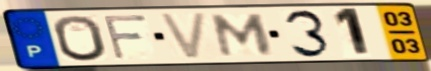1: (332, 6, 375, 59)
3: (279, 8, 331, 60)
F: (100, 13, 151, 62)
M: (210, 13, 276, 58)
O: (50, 14, 110, 63)
V: (156, 11, 211, 62)
